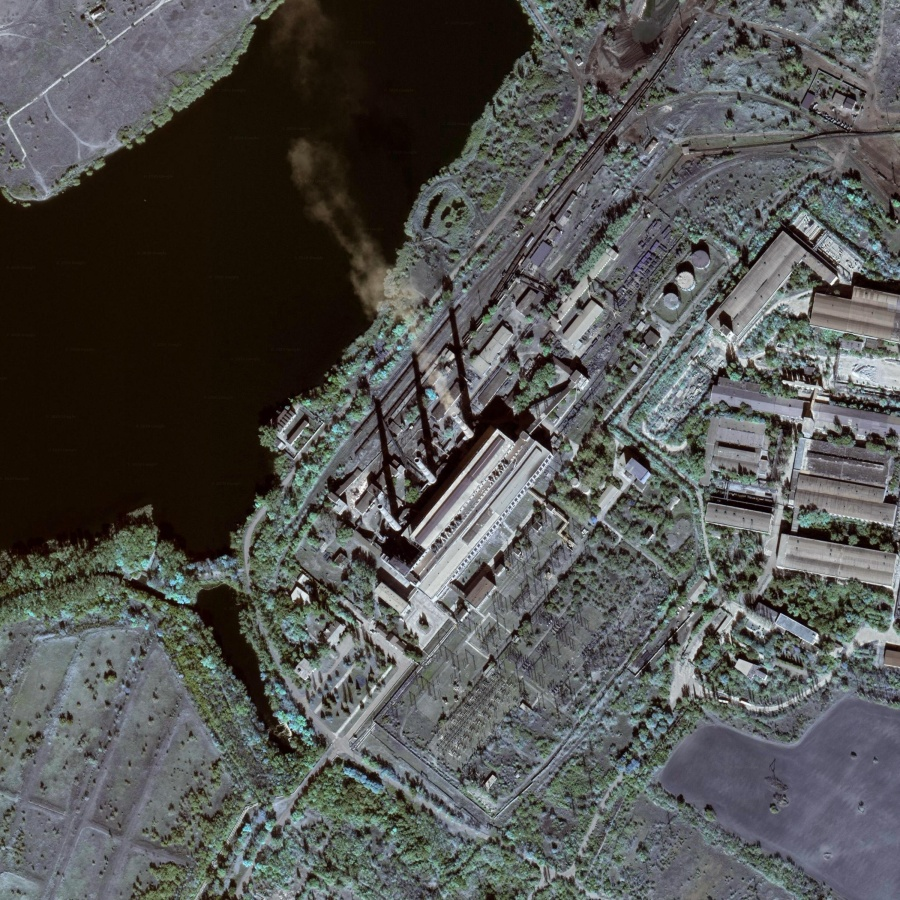PowerPlant: (337, 227, 702, 584)
